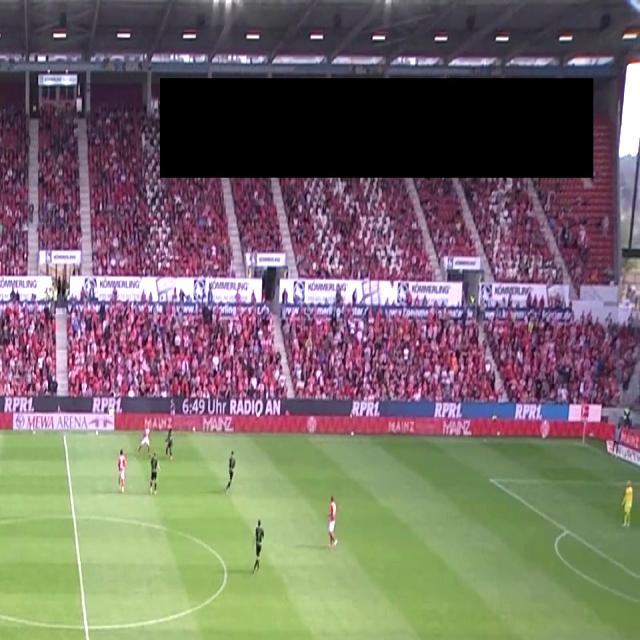soccer-player: (615, 470, 640, 530), (323, 492, 347, 552), (249, 518, 272, 579), (220, 448, 240, 496), (115, 441, 132, 494), (139, 419, 157, 458), (146, 451, 161, 496), (166, 420, 177, 468)
